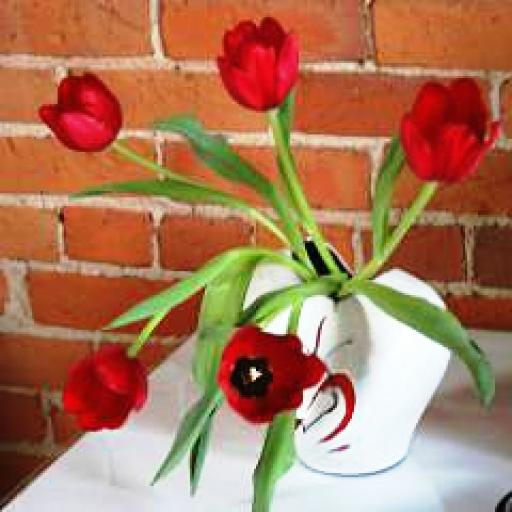tulip: (220, 330, 330, 418), (401, 78, 493, 182), (60, 347, 147, 438), (215, 20, 303, 106), (40, 69, 120, 154)
